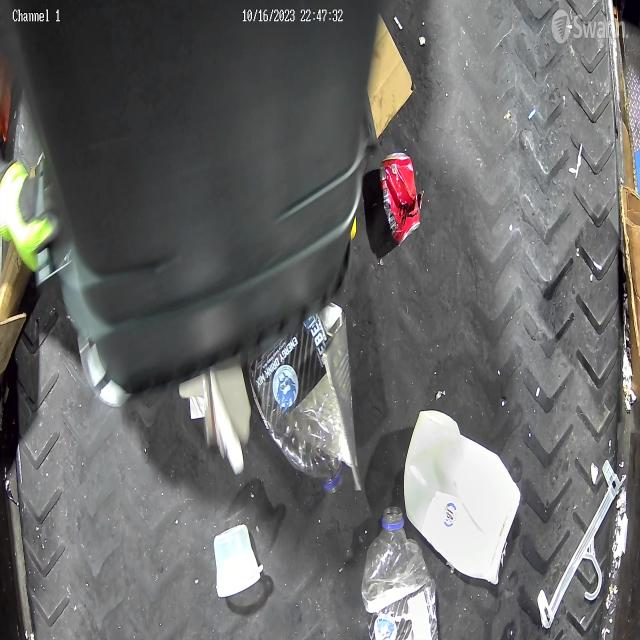can: (378, 152, 420, 246)
milk_jug: (404, 412, 522, 585)
plastic_bottle: (361, 506, 433, 638), (266, 374, 343, 494)
